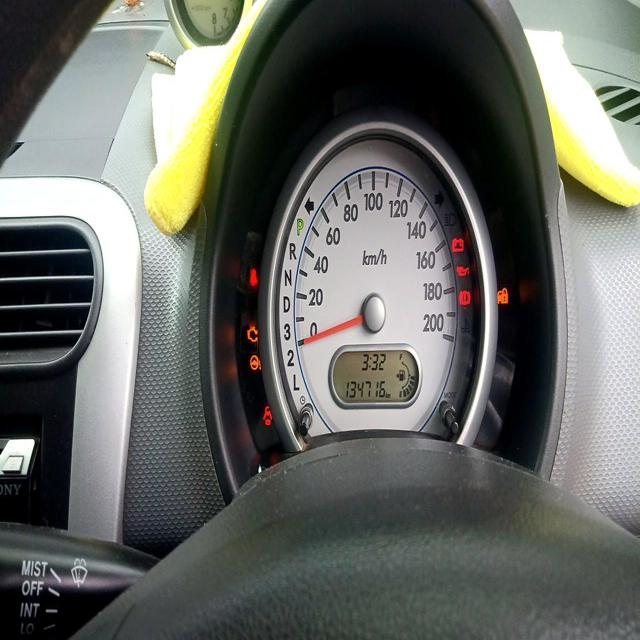odometer: (344, 377, 387, 400)
